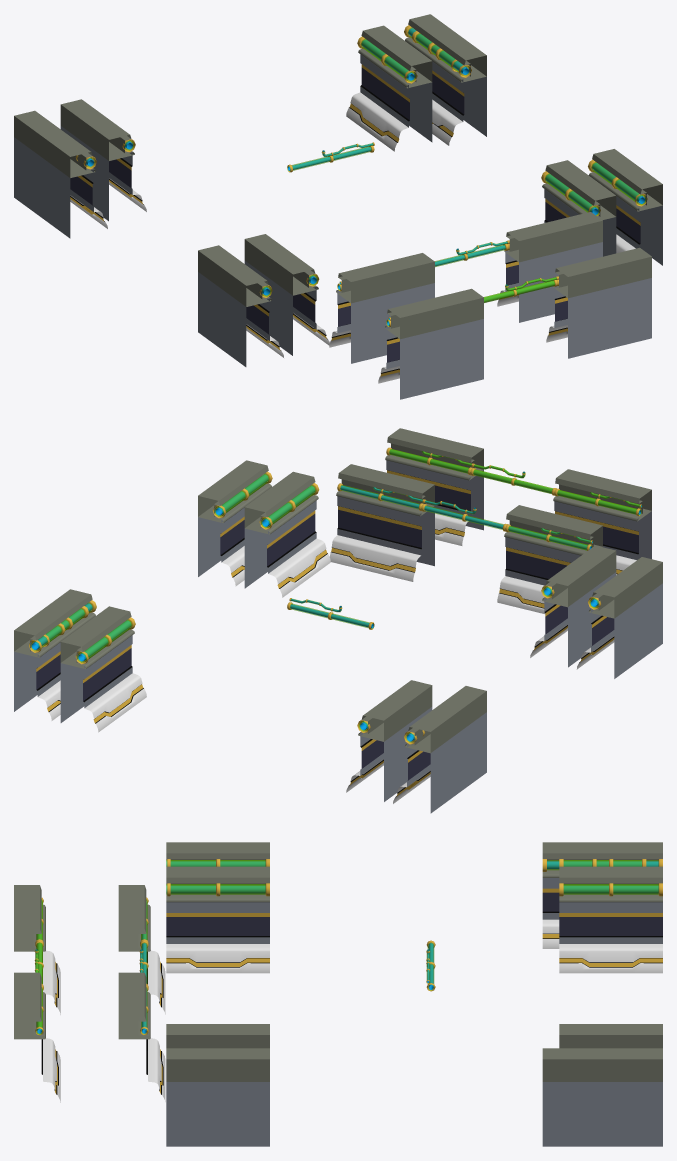
The model's file is Wall_withoutdetails.fbx.
3 views of the same model, one above another, from view 1: azimuth 30°, elevation 25°; view 2: azimuth 150°, elevation 25°; view 3: azimuth 270°, elevation 25° (orthographic). The views are drawn at different scales.
Parts seen in each view (by area): view 1: Base (×14), Pipe1 (×5), Pipe2; view 2: Base (×14), Pipe1 (×5), Pipe3 (×4), Pipe2 (×3); view 3: Base (×14), Pipe1 (×8).
Boxes of the visible parts, <box> form: Base (×14): <box>14,14,662,399</box>; Pipe1 (×5): <box>357,25,647,216</box>; Pipe2: <box>287,145,374,172</box>; Base (×14): <box>14,428,662,813</box>; Pipe1 (×5): <box>29,471,319,664</box>; Pipe3 (×4): <box>337,447,641,550</box>; Pipe2 (×3): <box>287,468,556,629</box>; Base (×14): <box>14,842,662,1146</box>; Pipe1 (×8): <box>166,859,662,896</box>.
Size of the model in its own units: 364 by 68.18 by 459.
